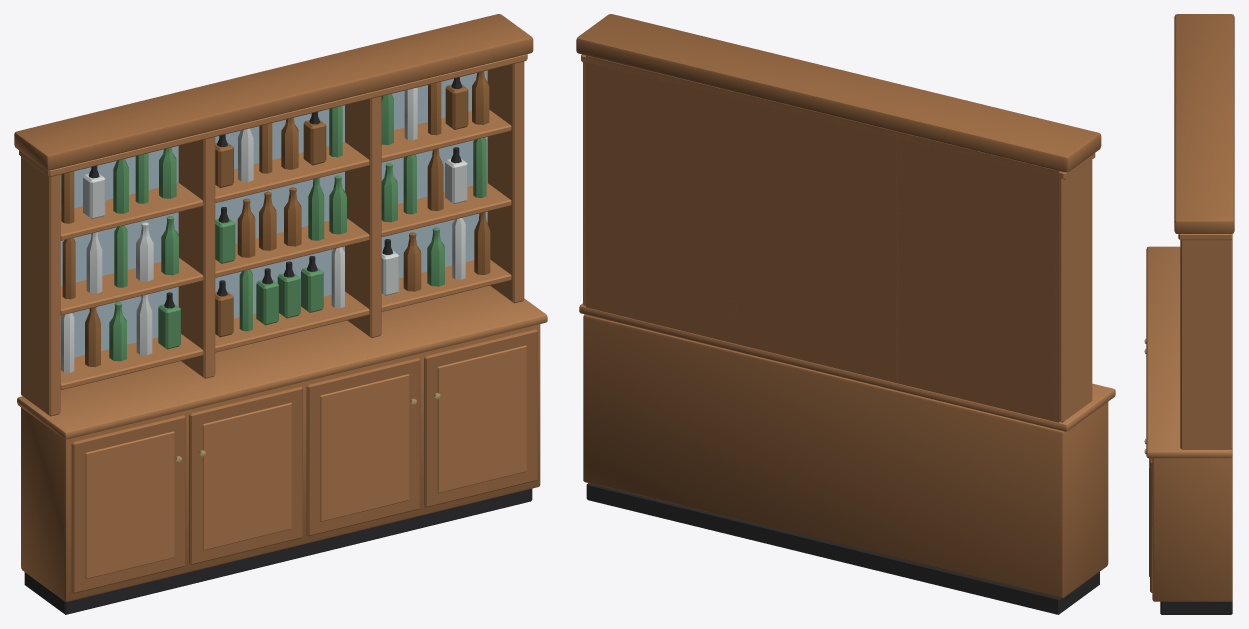
File: BarShelves.fbx
3 renders of one model, left to right at view 1: azimuth 30°, elevation 25°; view 2: azimuth 150°, elevation 25°; view 3: azimuth 270°, elevation 25°, orthographic. The views are drawn at different scales.
Parts seen in each view (by area): view 1: BarShelves_Mesh; view 2: BarShelves_Mesh; view 3: BarShelves_Mesh.
Boxes of the visible parts, left/top/right/bottom form: BarShelves_Mesh: left=14, top=14, right=547, bottom=614; BarShelves_Mesh: left=576, top=14, right=1115, bottom=614; BarShelves_Mesh: left=1144, top=14, right=1234, bottom=614.
Size of the model in its own units: 2.46 by 2.2 by 0.45.
